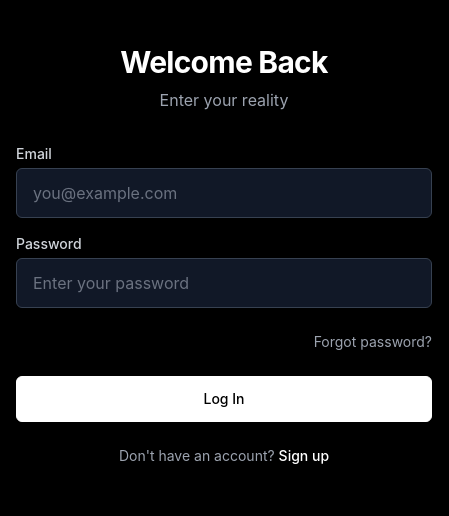
Test case: LoginPage › shows error for invalid credentials
The image size is (449, 516).
Step 1. Type "wrong@example.com" into the field labelled "Email" → [224, 193], box [16, 168, 432, 218]
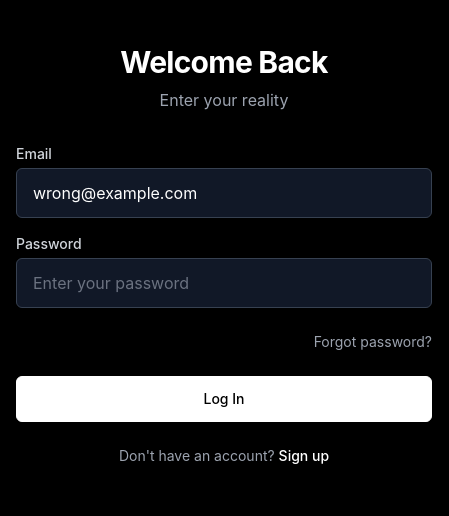
Step 2. Type "wrongpassword" into the password field labelled "Password" → [224, 283], box [16, 258, 432, 308]
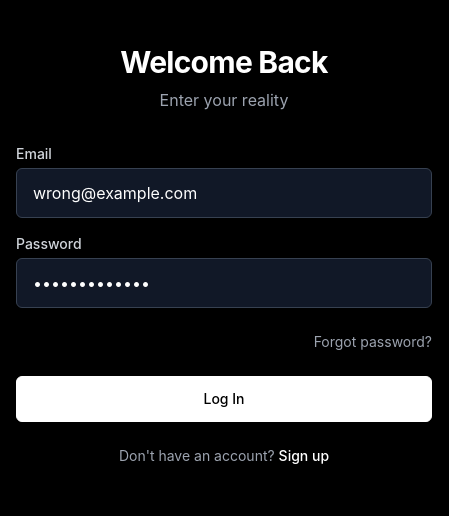
Step 3. Click the button "Log In" → [224, 399], box [16, 376, 432, 422]
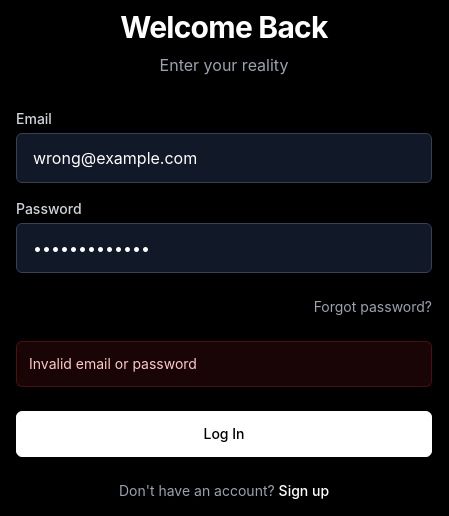
Now the text "Invalid email or password" is shown, box [29, 355, 197, 372]
